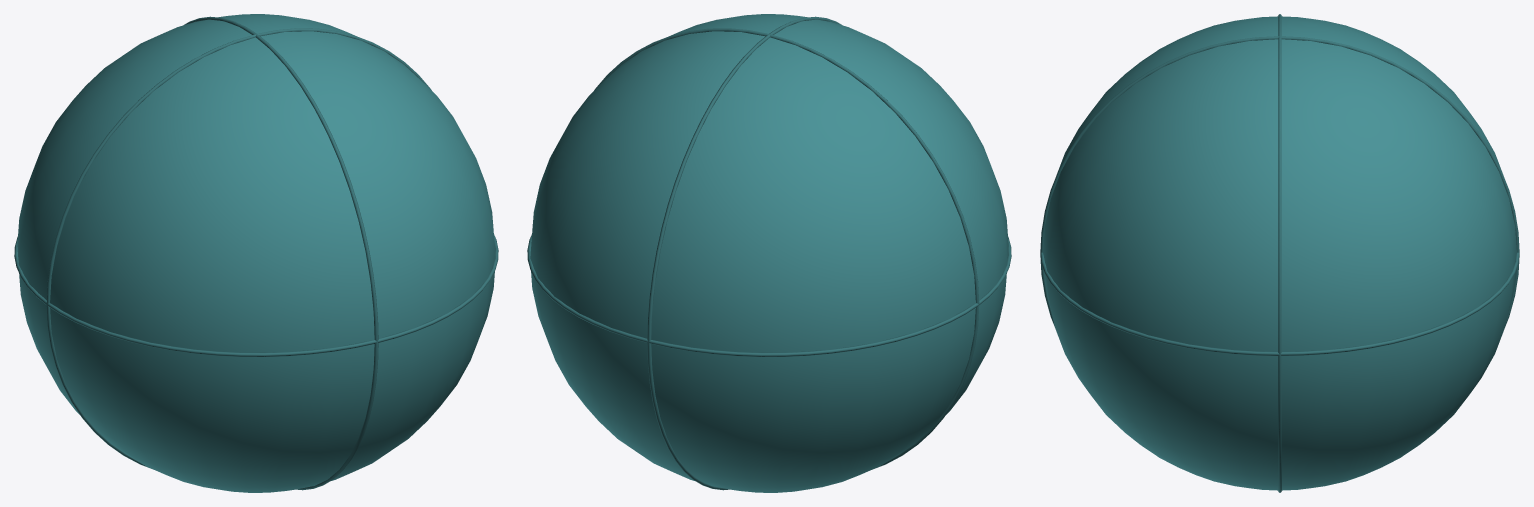
File: play-ball-teal.glb
3 renders of one model, left to right at view 1: azimuth 30°, elevation 25°; view 2: azimuth 150°, elevation 25°; view 3: azimuth 270°, elevation 25°, orthographic.
Visible parts, largest first — view 1: Ball_Surface, Ball_Subtle_Seam_1, Ball_Subtle_Seam_0, Ball_Subtle_Seam_2; view 2: Ball_Surface, Ball_Subtle_Seam_1, Ball_Subtle_Seam_0, Ball_Subtle_Seam_2; view 3: Ball_Surface, Ball_Subtle_Seam_2, Ball_Subtle_Seam_0, Ball_Subtle_Seam_1.
Part boxes in pixels (x1,y1,x2,y2): Ball_Surface: (17, 14, 495, 492); Ball_Subtle_Seam_1: (46, 28, 431, 468); Ball_Subtle_Seam_0: (14, 234, 498, 356); Ball_Subtle_Seam_2: (184, 16, 378, 490); Ball_Surface: (530, 14, 1008, 492); Ball_Subtle_Seam_1: (594, 28, 979, 468); Ball_Subtle_Seam_0: (527, 234, 1011, 356); Ball_Subtle_Seam_2: (647, 16, 841, 490); Ball_Surface: (1043, 16, 1516, 490); Ball_Subtle_Seam_2: (1040, 36, 1519, 326); Ball_Subtle_Seam_0: (1040, 252, 1519, 355); Ball_Subtle_Seam_1: (1278, 14, 1281, 492).
Bounding box in the file's own units: 0.1818 × 0.1818 × 0.1818.
